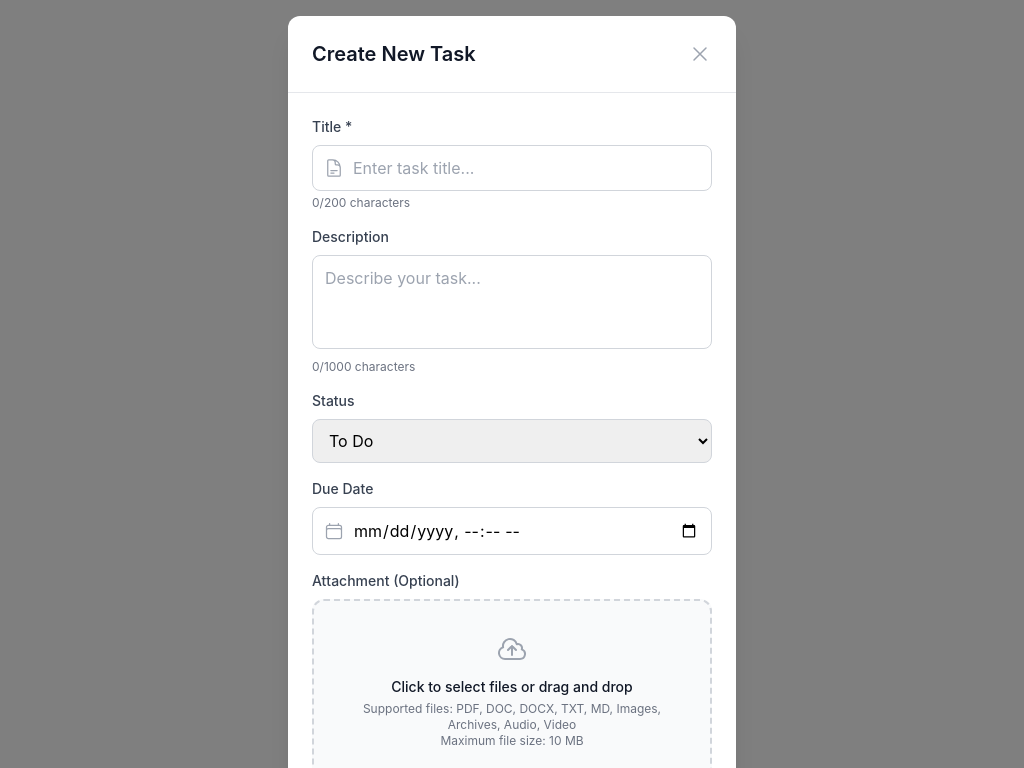
TaskForm Component › handles form data changes correctly
The image size is (1024, 768).
# Use more reliable input method
Click the field with placeholder "Enter task title...": click(512, 168) top-left (312, 145), bottom-right (712, 191)
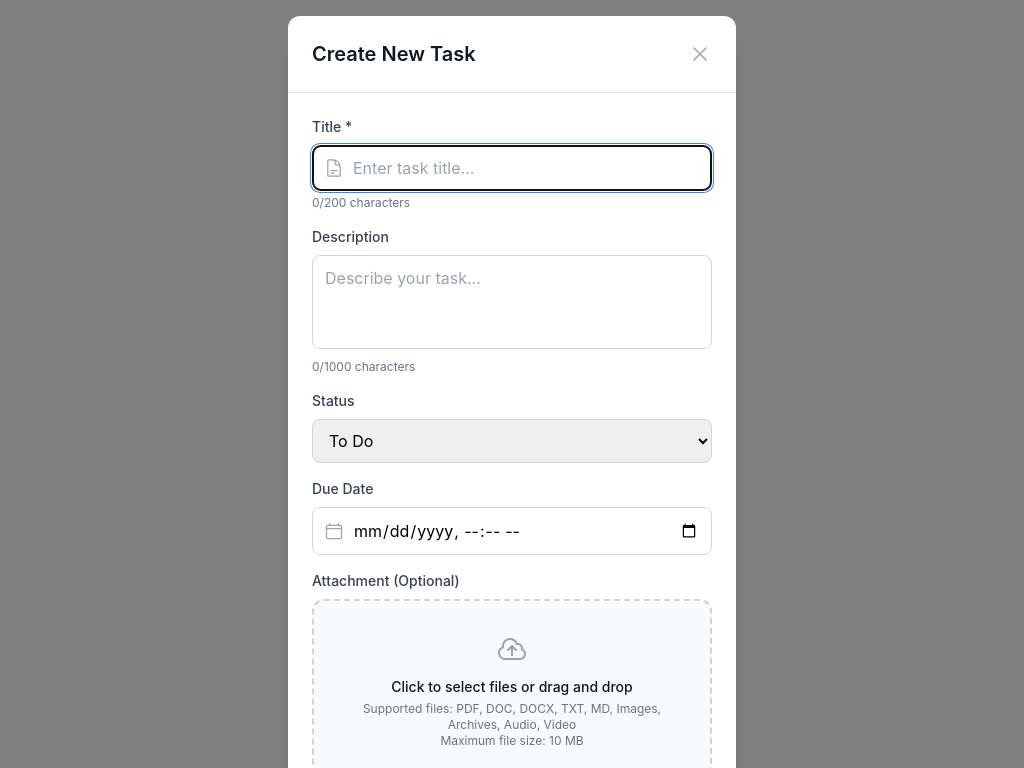
Type keys "{Control>}a{/Control}Dynamic Title"
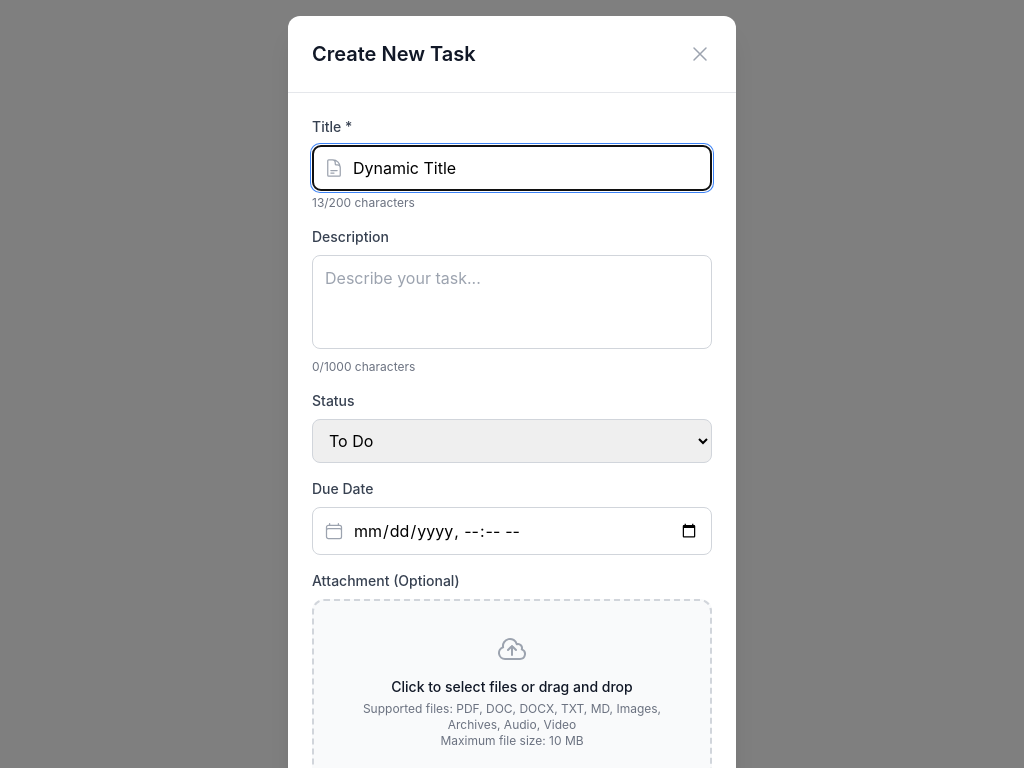
Click the text box with placeholder "Describe your task...": click(512, 302) top-left (312, 255), bottom-right (712, 349)
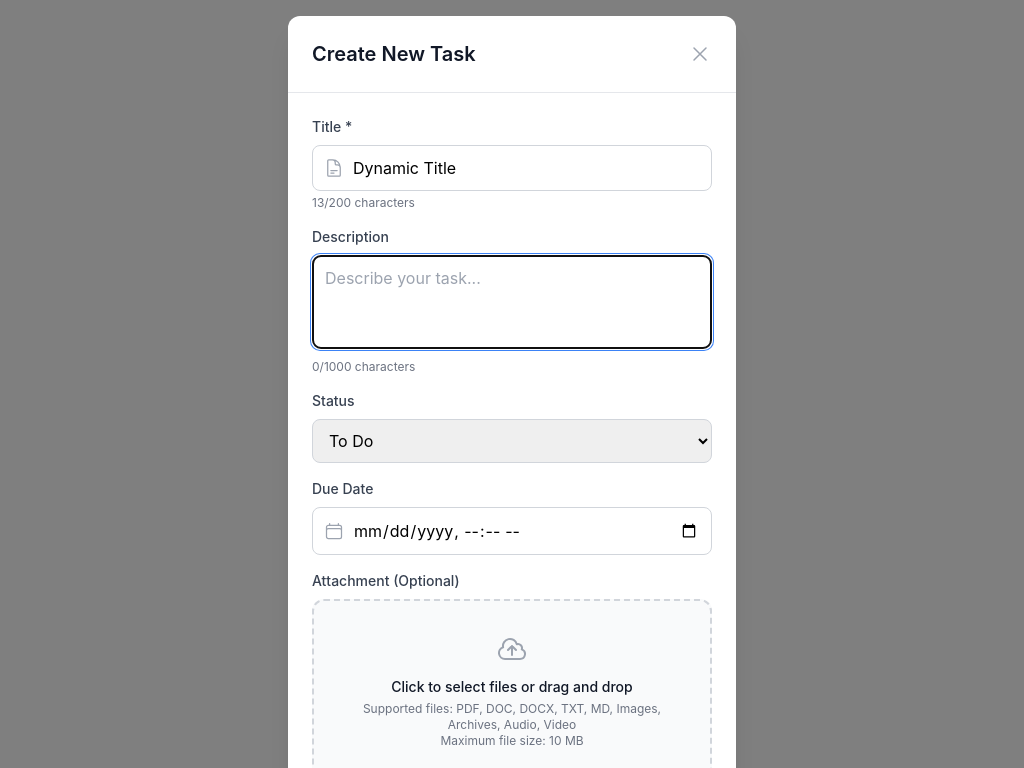
Type keys "{Control>}a{/Control}Dynamic Description"
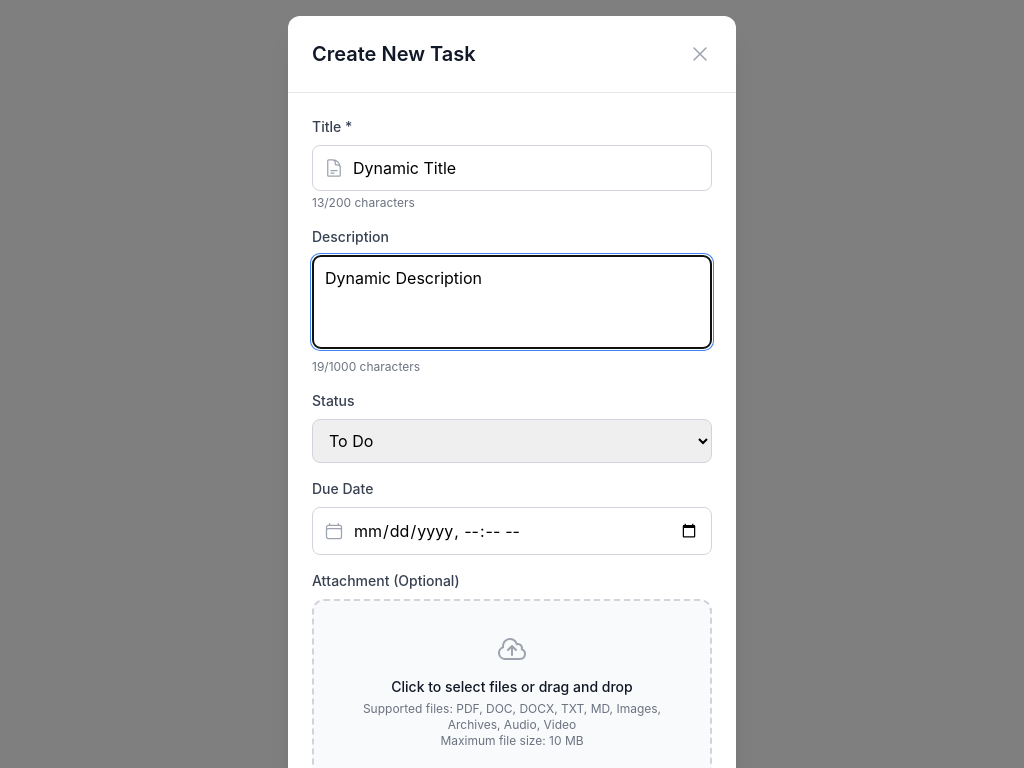
Expected: the text "13/200 characters" is shown, top-left (312, 195), bottom-right (415, 210)
Expected: the text "19/1000 characters" is shown, top-left (312, 359), bottom-right (420, 374)
